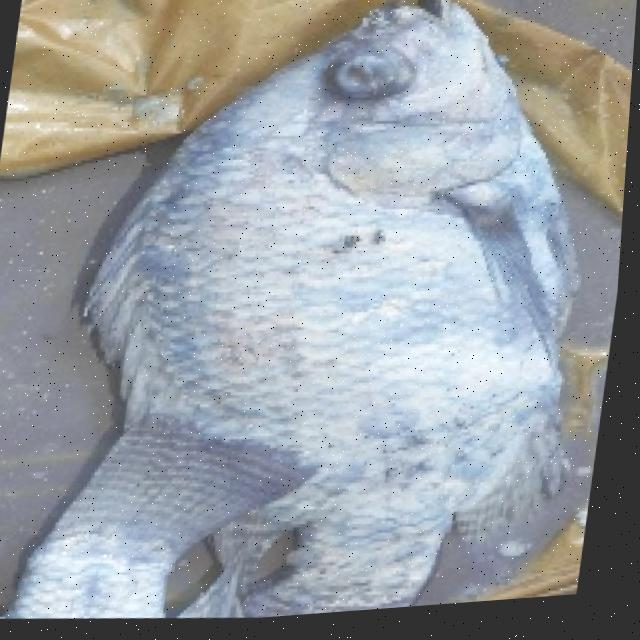Non-Fresh: (120, 0, 550, 631), (311, 39, 422, 145)
